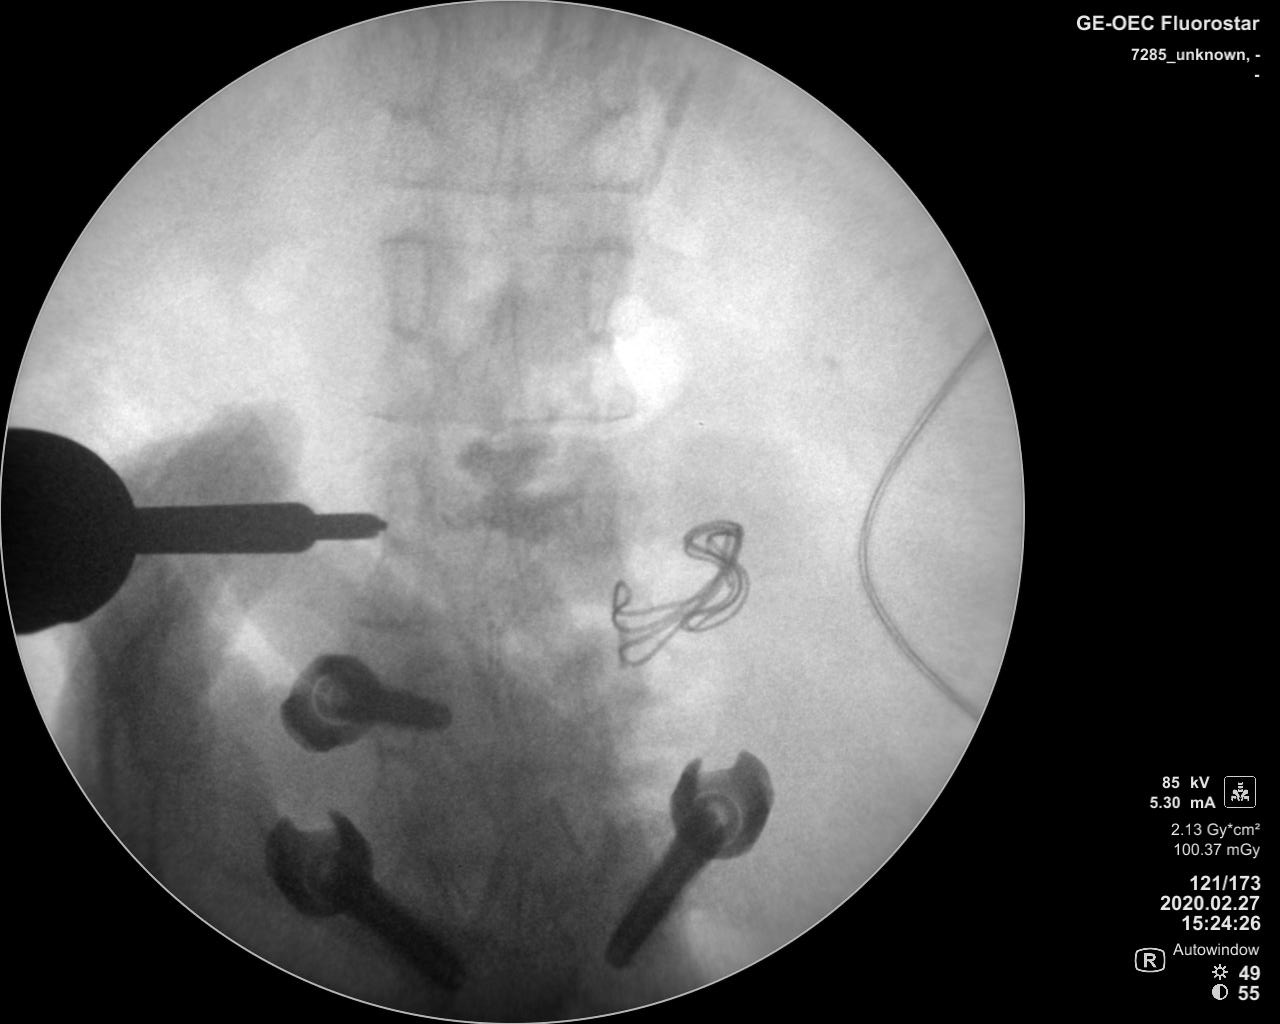eyes: (376, 11, 445, 116), (377, 230, 434, 345), (588, 16, 643, 114), (579, 239, 629, 335), (382, 459, 432, 553), (572, 457, 616, 546)
line: (363, 167, 659, 201), (366, 404, 653, 430)
nose: (471, 284, 534, 442), (481, 91, 535, 240), (474, 487, 529, 629)
